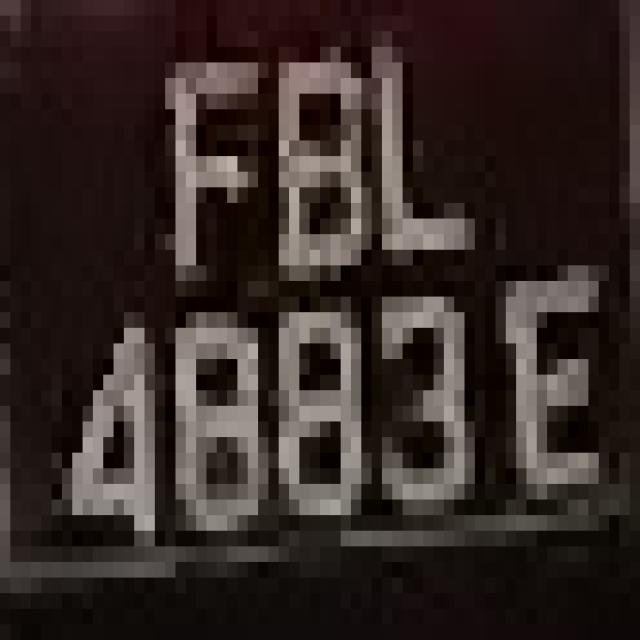3: (351, 265, 485, 562)
4: (31, 281, 165, 562)
8: (165, 266, 268, 594), (258, 265, 361, 562)
B: (268, 16, 382, 281)
E: (496, 250, 620, 530)
F: (145, 0, 258, 297)
L: (372, 16, 464, 266)
